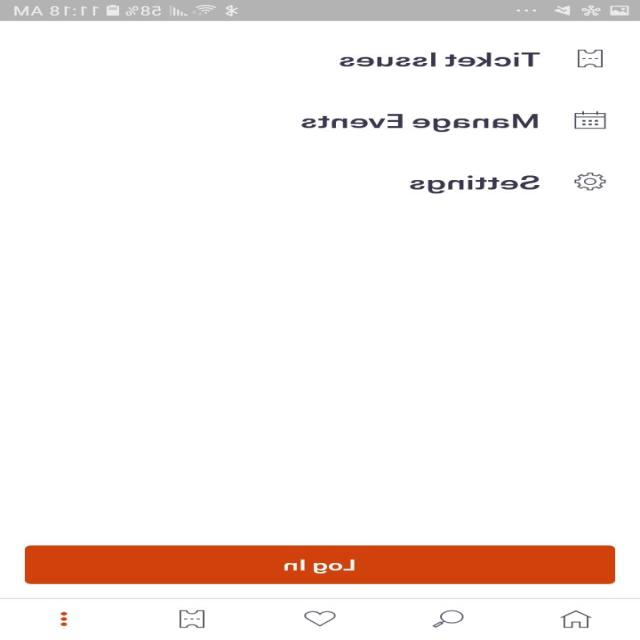Icon: (574, 172, 607, 191), (432, 609, 465, 628), (560, 609, 592, 628), (574, 111, 607, 129), (304, 610, 337, 627), (180, 609, 207, 628), (577, 49, 603, 67), (60, 611, 70, 626)
Text: (302, 113, 538, 132), (340, 52, 540, 67), (410, 174, 540, 193)
TextButton: (26, 545, 616, 584)
